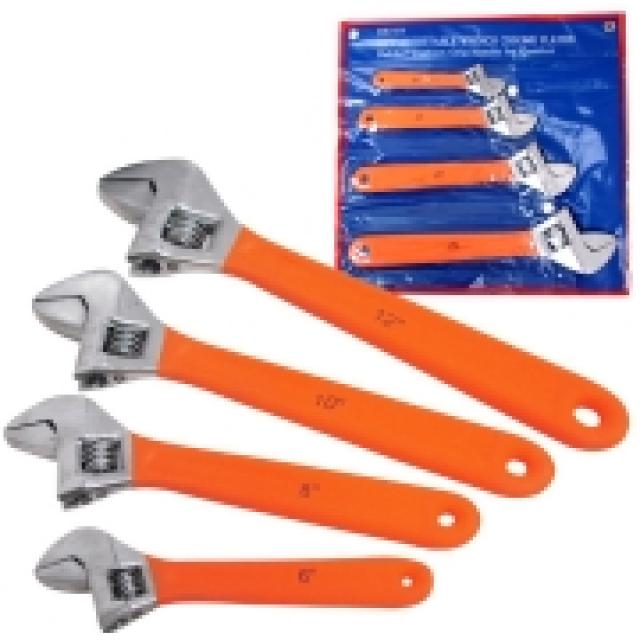wrench: (0, 376, 491, 542), (364, 34, 612, 286), (70, 106, 322, 295), (17, 522, 424, 634), (16, 254, 311, 402)
